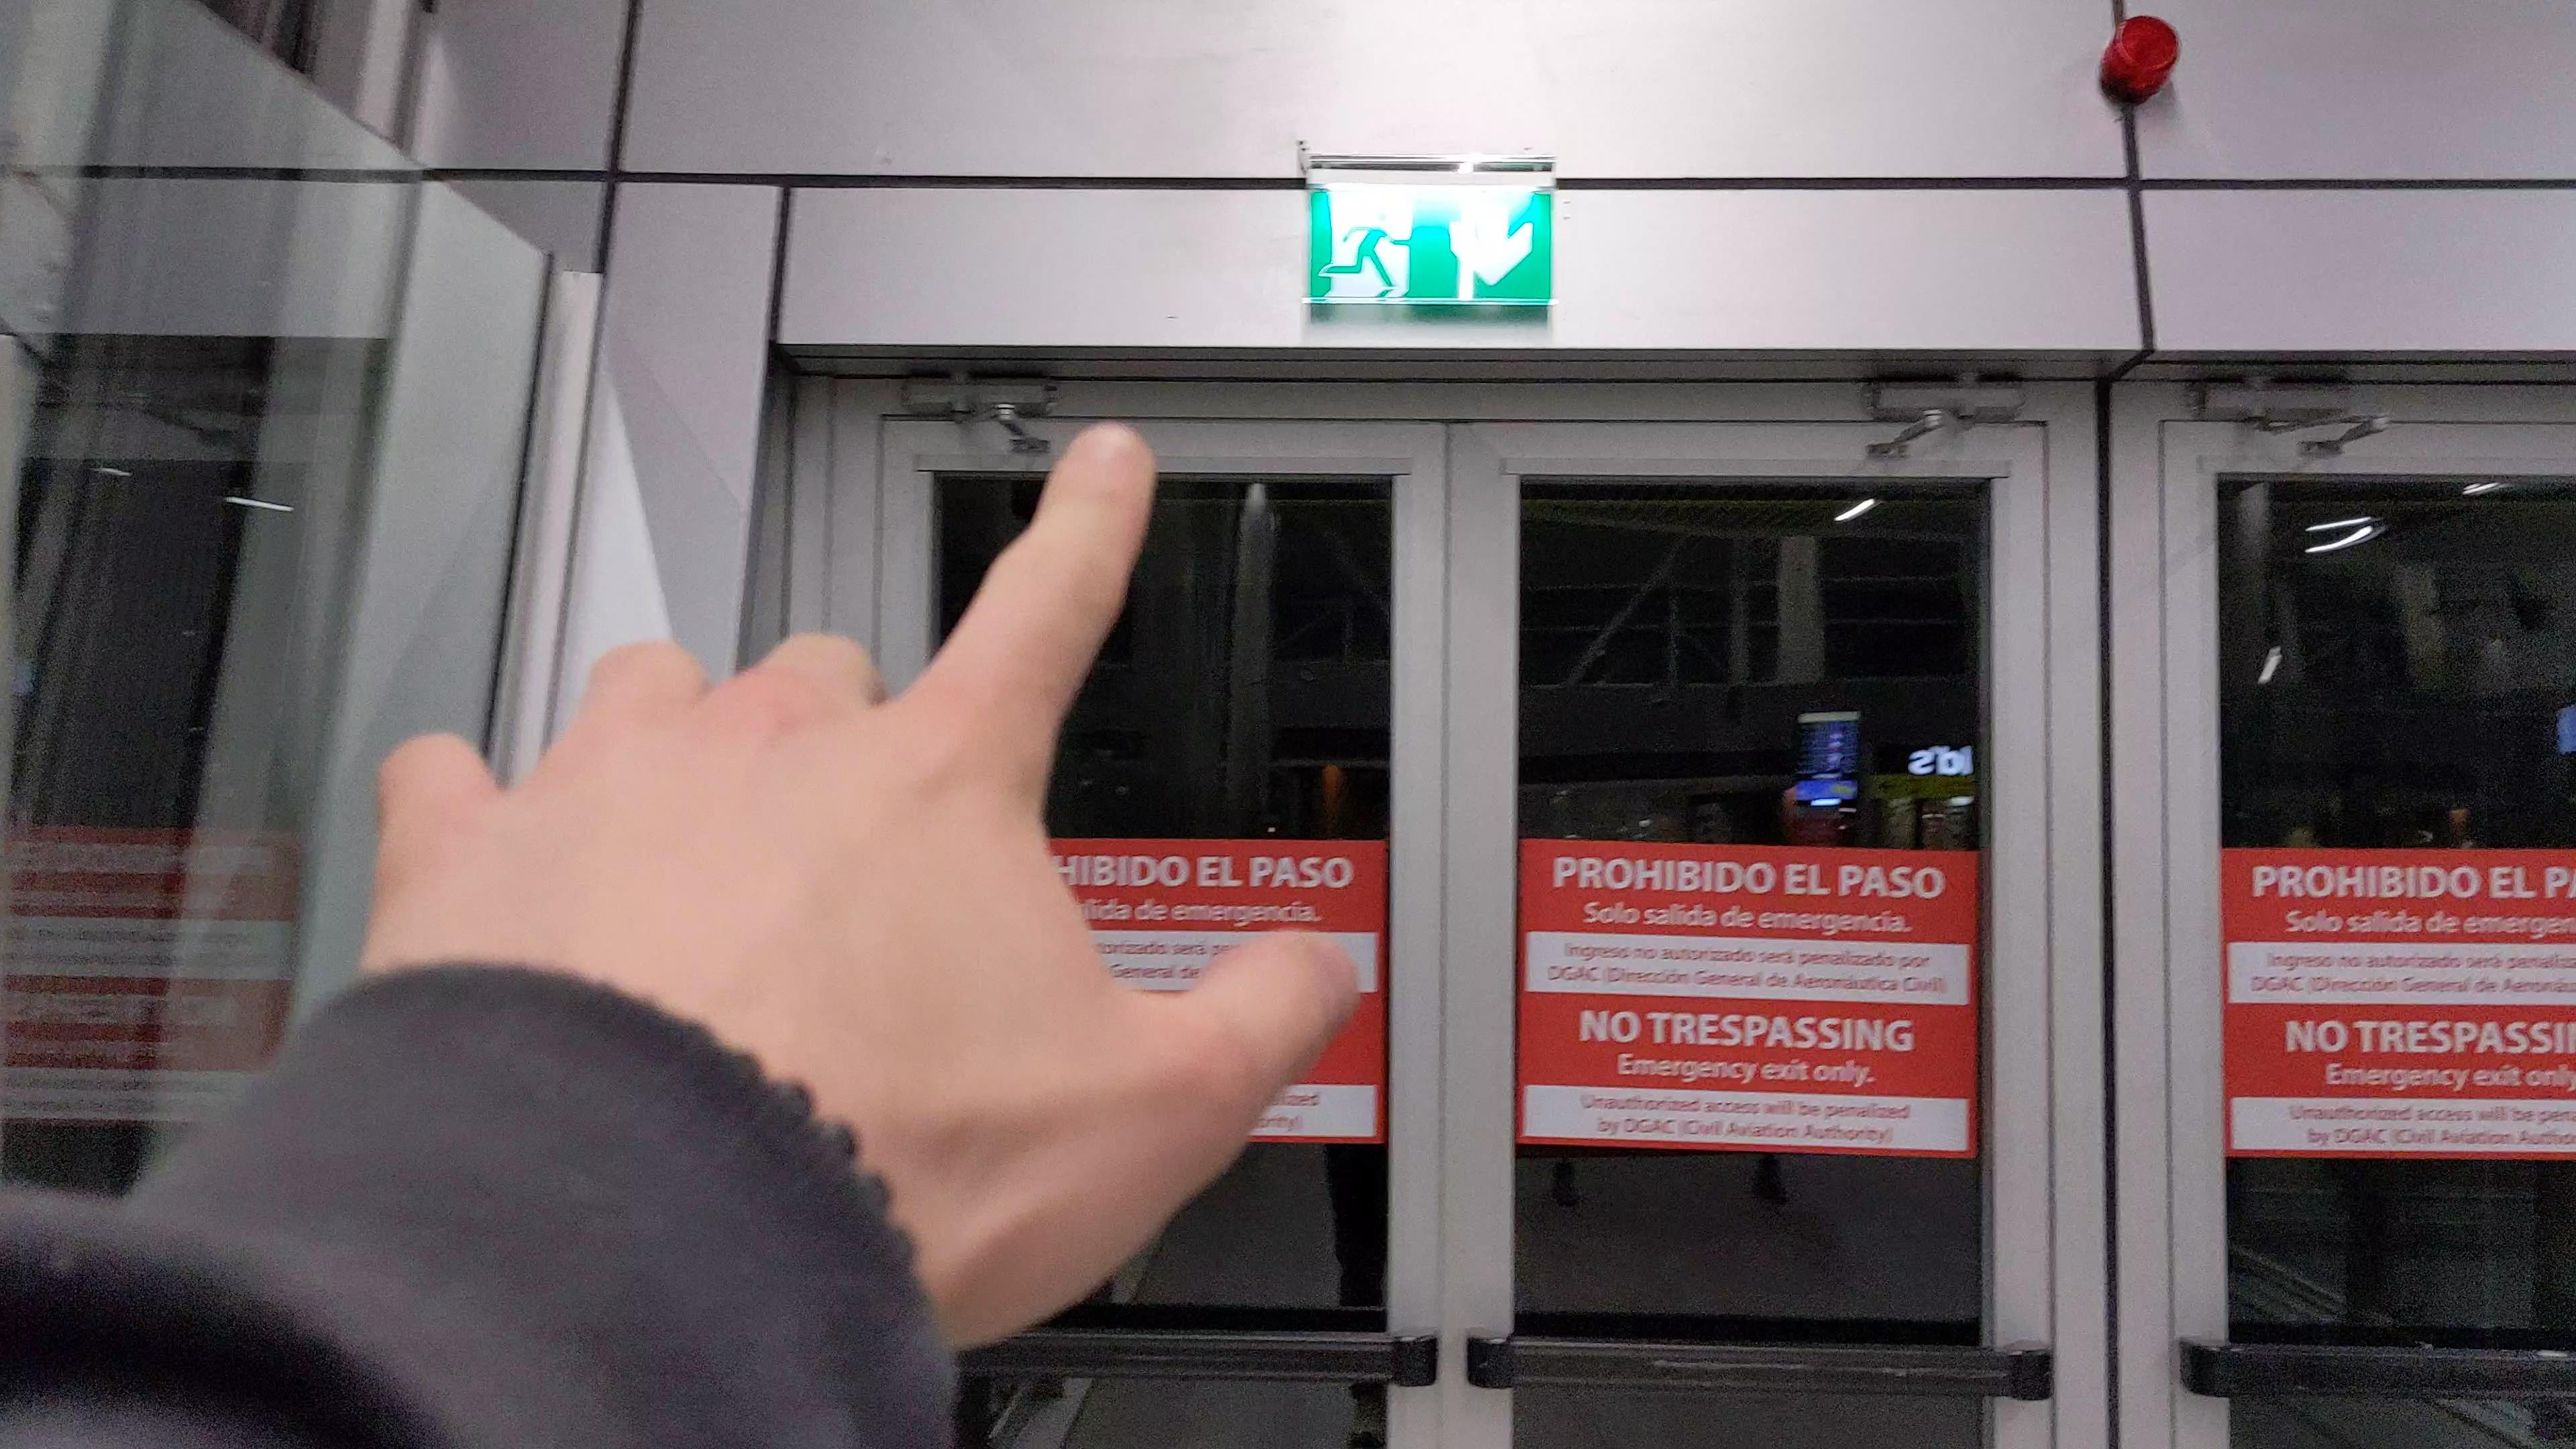emergency down arrow: (1442, 196, 1536, 288)
emergency exit: (1318, 191, 1419, 303)
no trespassing: (1525, 856, 1960, 1145), (2238, 851, 2558, 1161), (2, 803, 188, 1129)
